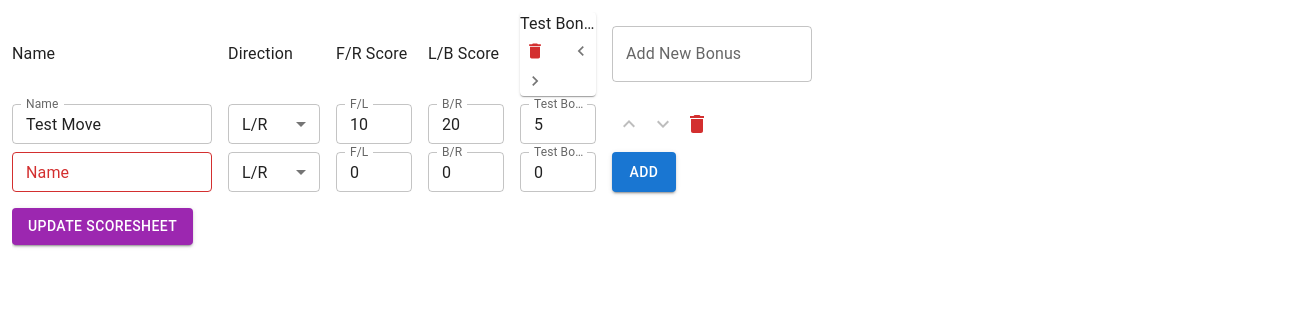
Test: ScoresheetMoves › unsaved changes warning › is shown after a move is edited and cleared when the edit is undone
Replace the text in the 1st field showing "Test Move" with "Renamed Move" at (112, 124), box [12,104,212,144]
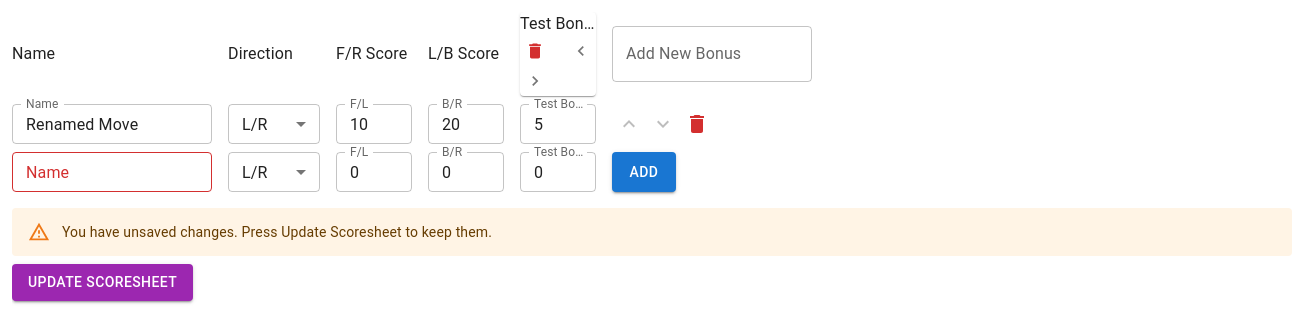
Result: the text "unsaved changes" is shown at [62,224,492,240]
Replace the text in the 1st field showing "Renamed Move" with "Test Move" at (112, 124), box [12,104,212,144]
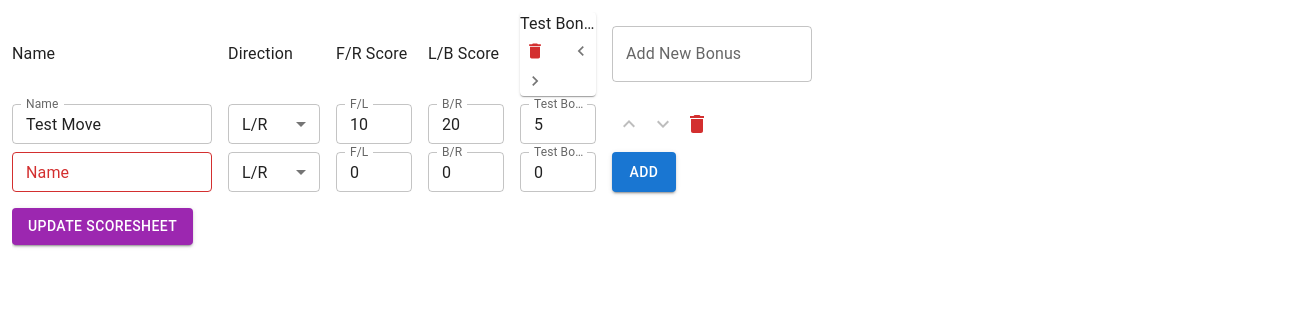
Result: the text "unsaved changes" is gone
